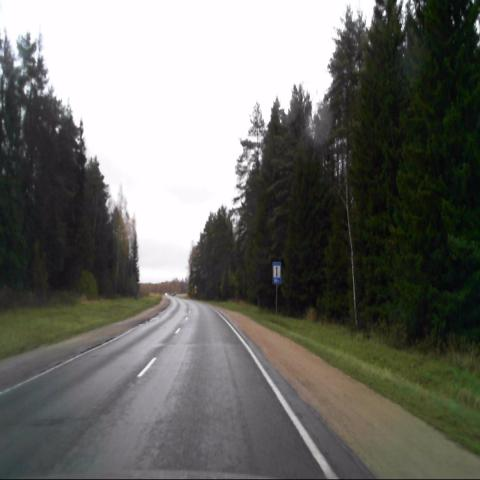7_4: (272, 260, 282, 286)
